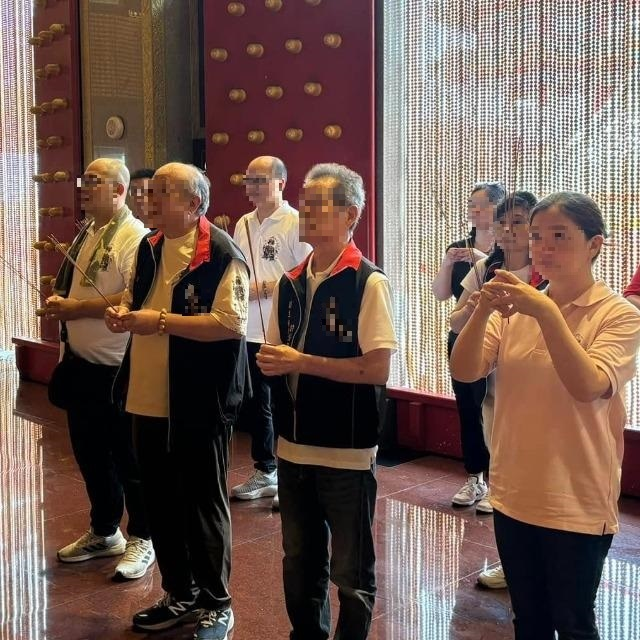NoHelmet: (527, 191, 609, 285), (297, 160, 371, 249), (74, 156, 132, 216)
